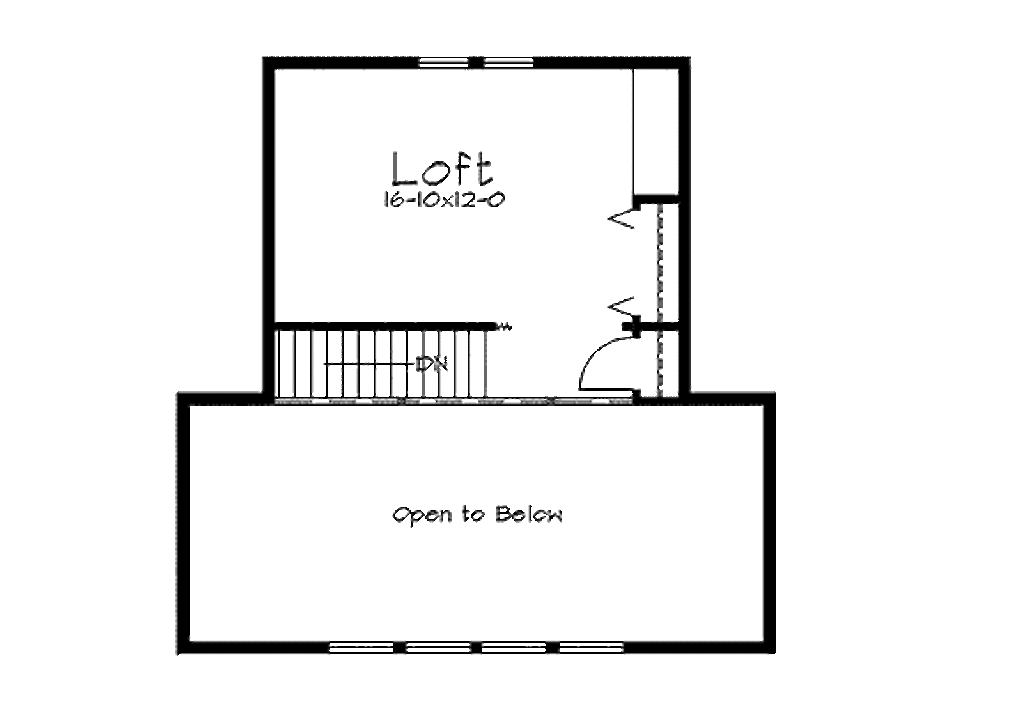door: (556, 326, 644, 398)
stairs: (265, 310, 506, 403)
windows: (327, 637, 625, 657), (416, 55, 541, 69)
